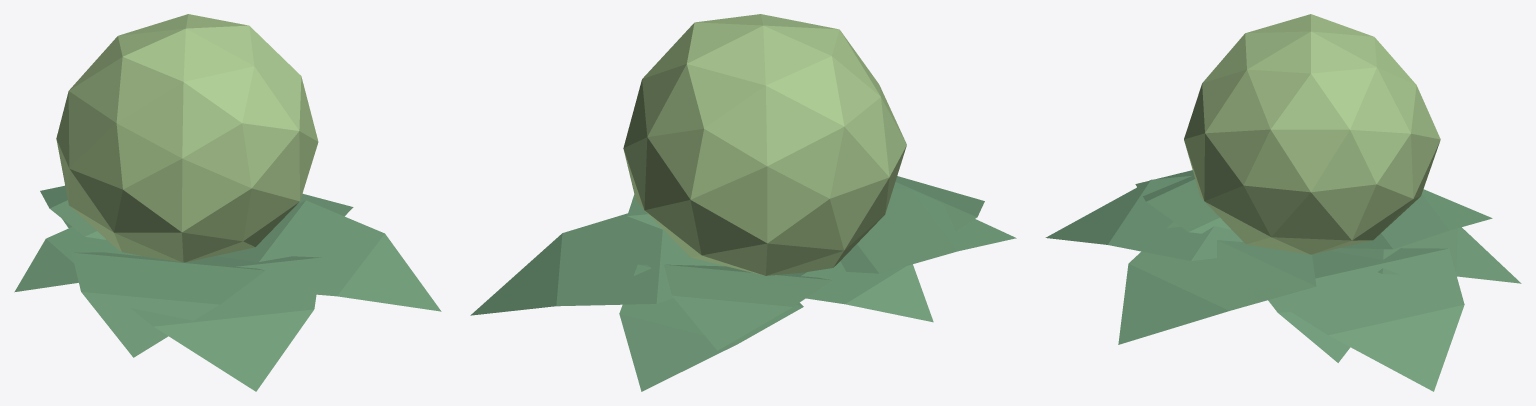
Rendered from cabbage.glb.
3 renders of one model, left to right at view 1: azimuth 30°, elevation 25°; view 2: azimuth 150°, elevation 25°; view 3: azimuth 270°, elevation 25°, orthographic. The views are drawn at different scales.
Visible parts, largest first — view 1: cabbage; view 2: cabbage; view 3: cabbage.
Part boxes in pixels (x1,y1,x2,y2): cabbage: (14,14,441,391); cabbage: (470,14,1016,391); cabbage: (1045,14,1521,391).
Bounding box in the file's own units: 0.4183 × 0.2924 × 0.4806.
